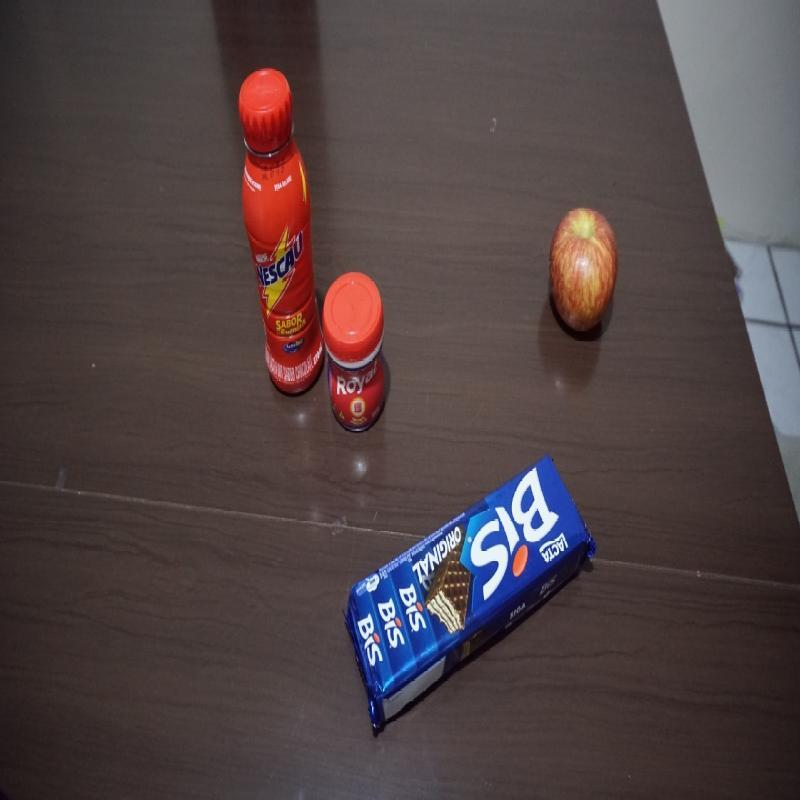Apple: (551, 208, 617, 338)
Chocolate Milk: (239, 67, 324, 396)
Yeast: (322, 268, 387, 434)
